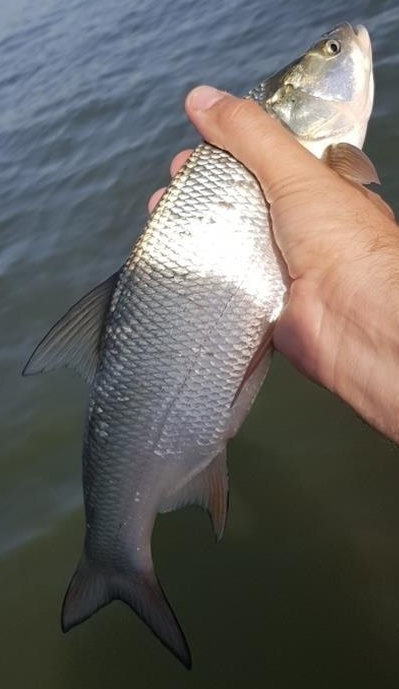Aspius aspius: (20, 20, 379, 669)
